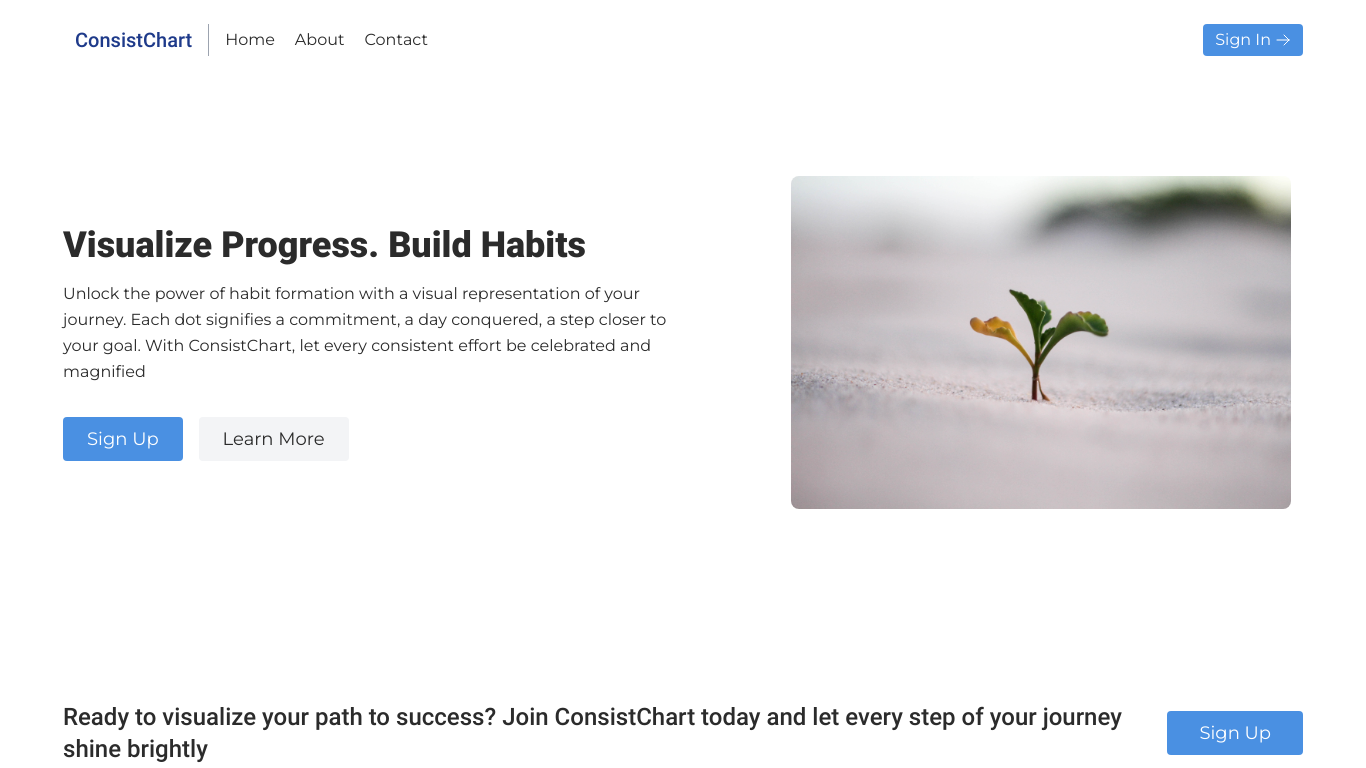
Test: Navigation › should check hero learn more button works
Click the link with test id "hero-learn-more" at (266, 439), box [183, 417, 349, 461]
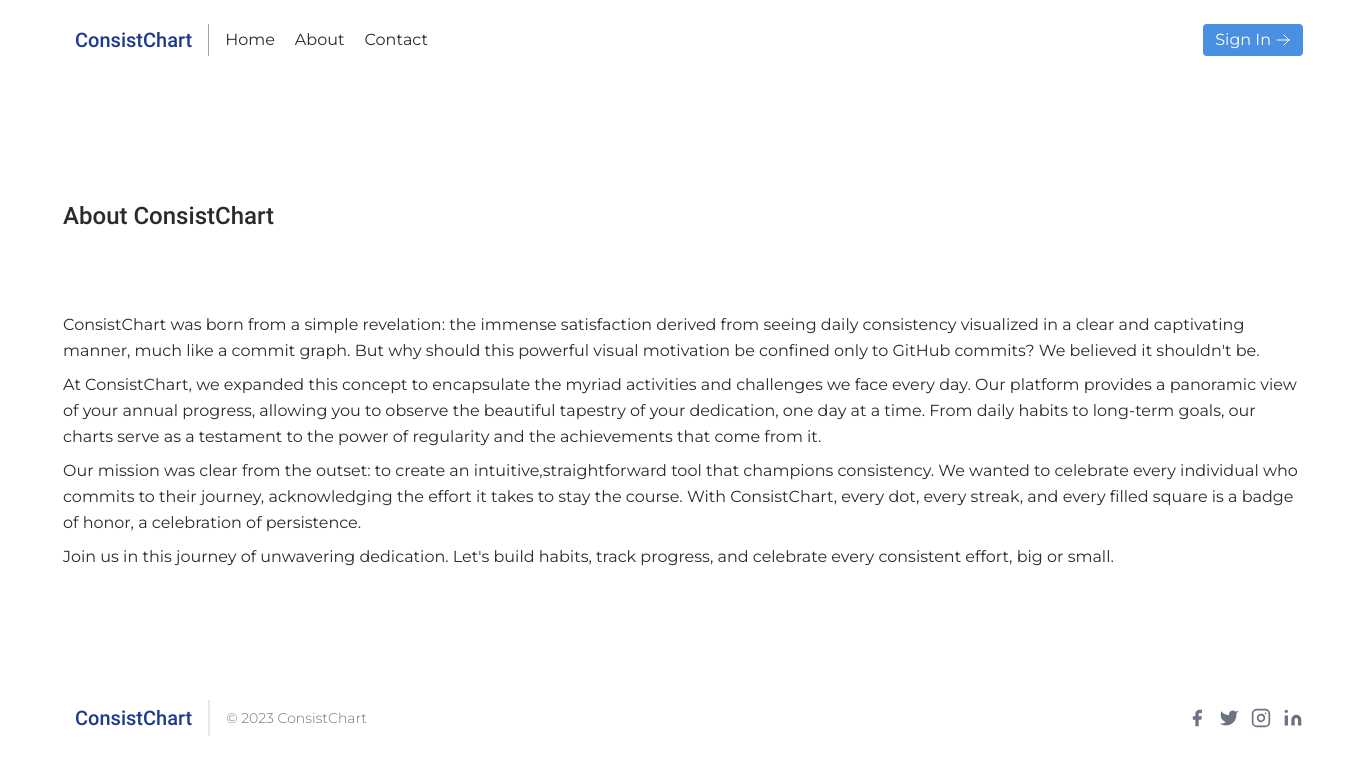
Now the heading "About ConsistChart" is shown, box [63, 202, 274, 230]
